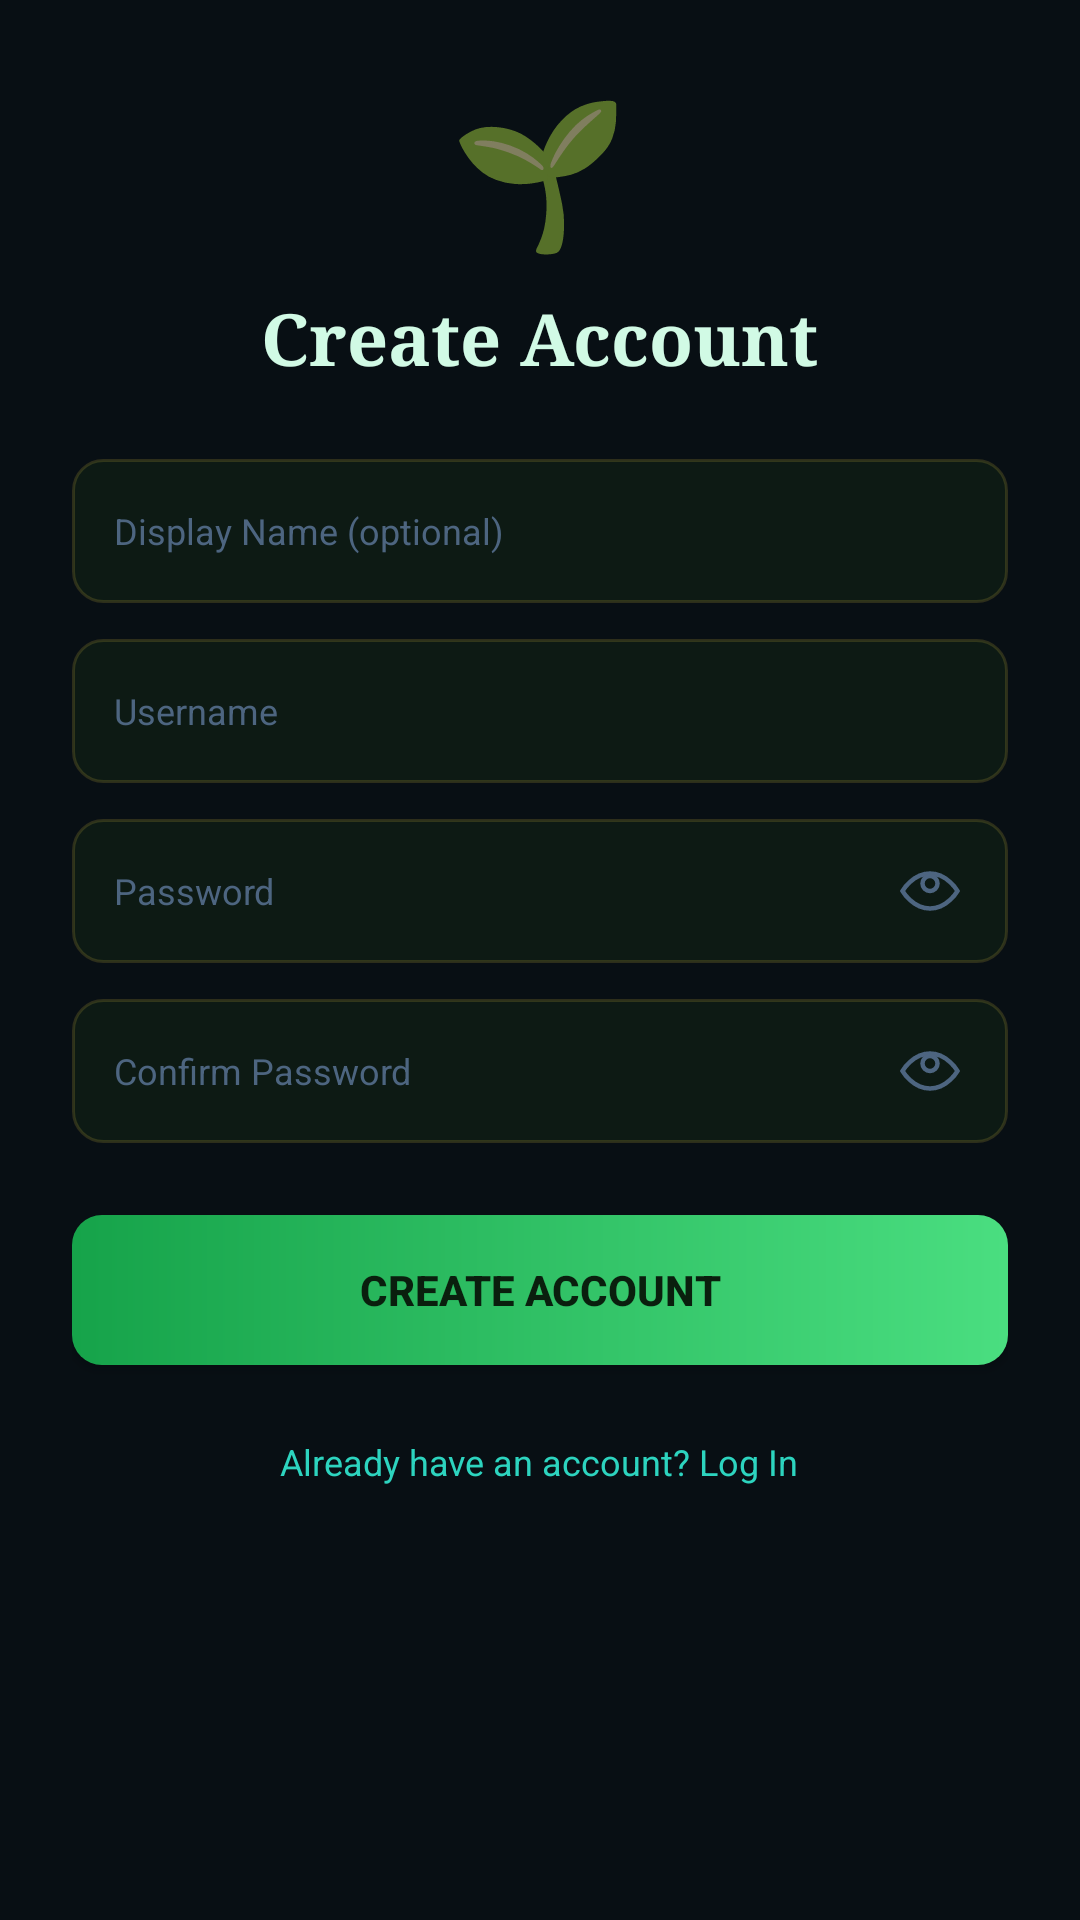

Named icons in this screenshot (1080*1920) and their bounding boxes, BBox(x1, y1, x2, y2):
eye open: BBox(900, 871, 960, 911), BBox(900, 1051, 960, 1091)
